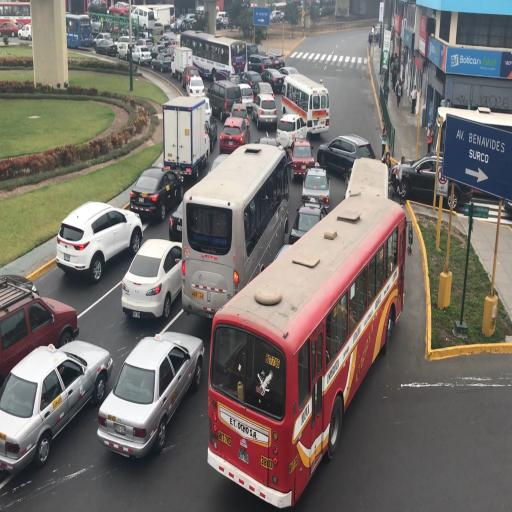auto: (1, 340, 113, 479), (98, 330, 204, 458), (1, 274, 77, 396), (56, 197, 141, 279), (120, 238, 184, 321), (390, 153, 473, 213), (129, 164, 183, 222), (317, 133, 372, 178), (288, 202, 326, 246), (301, 164, 330, 208), (276, 113, 305, 154), (220, 116, 250, 154), (290, 138, 316, 180), (252, 92, 278, 129), (230, 97, 254, 130), (260, 68, 286, 94), (240, 69, 265, 96), (248, 52, 275, 76), (182, 64, 202, 92), (115, 36, 139, 59), (130, 44, 152, 66), (152, 51, 174, 73), (92, 32, 114, 50), (0, 20, 22, 38), (150, 41, 170, 60), (266, 52, 286, 70), (88, 13, 105, 34), (277, 66, 299, 81), (111, 1, 131, 17), (157, 34, 175, 49), (105, 40, 120, 58), (88, 0, 107, 14), (258, 136, 278, 149), (182, 13, 197, 30), (135, 37, 153, 51), (203, 96, 212, 122), (118, 25, 136, 38), (18, 24, 32, 40), (112, 20, 126, 35), (151, 21, 165, 35), (270, 10, 284, 23), (101, 20, 114, 34), (172, 17, 184, 32), (216, 11, 225, 27), (222, 16, 230, 28)
bus: (162, 96, 209, 184), (170, 45, 194, 84)
camion: (388, 164, 408, 202)
moto: (206, 159, 392, 497), (281, 71, 329, 139), (185, 32, 240, 83), (65, 13, 92, 48)
